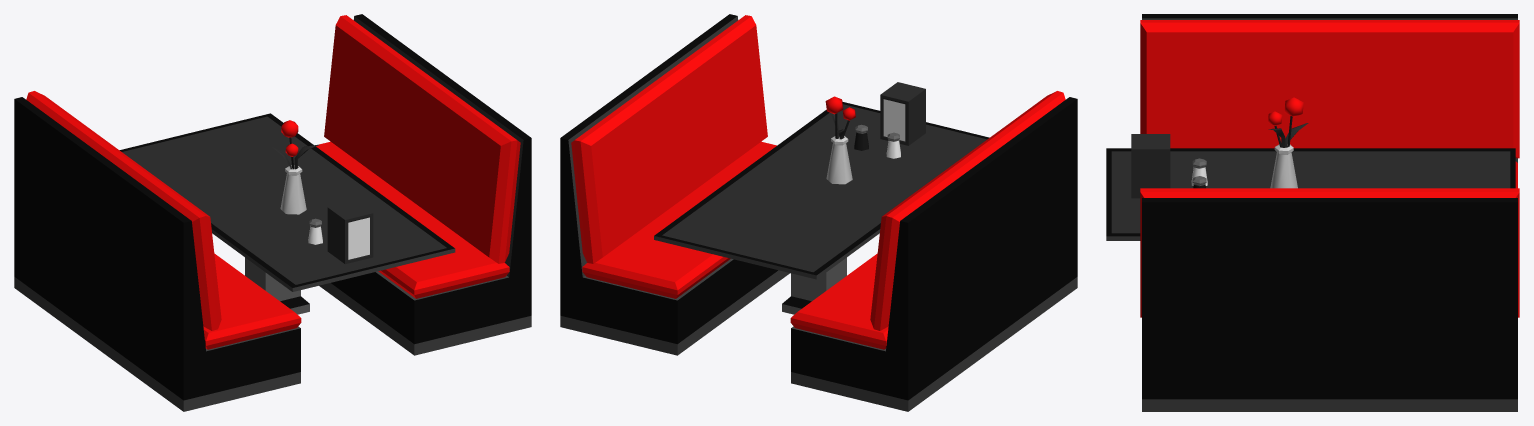
Rendered from Booth.fbx.
3 renders of one model, left to right at view 1: azimuth 30°, elevation 25°; view 2: azimuth 150°, elevation 25°; view 3: azimuth 270°, elevation 25°, orthographic. The views are drawn at different scales.
Parts seen in each view (by area): view 1: Box061; view 2: Box061; view 3: Box061.
Part boxes in pixels (x1,y1,x2,y2): Box061: (14, 14, 531, 411); Box061: (560, 14, 1077, 411); Box061: (1106, 14, 1519, 411).
Bounding box in the file's own units: 318 × 174 × 296.
